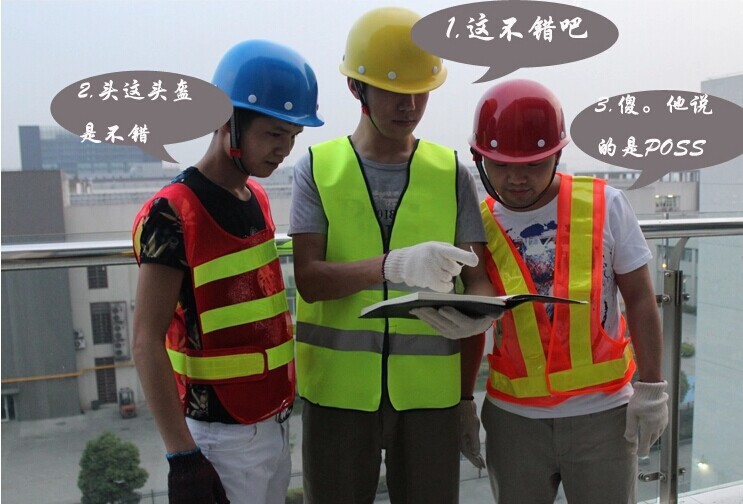person: (285, 6, 504, 504), (129, 37, 326, 504), (460, 78, 671, 504)
reflective_vest: (293, 134, 464, 413), (130, 177, 297, 426), (477, 172, 638, 407)
safety_helmet: (208, 38, 326, 180), (337, 6, 450, 144), (465, 76, 575, 212)
